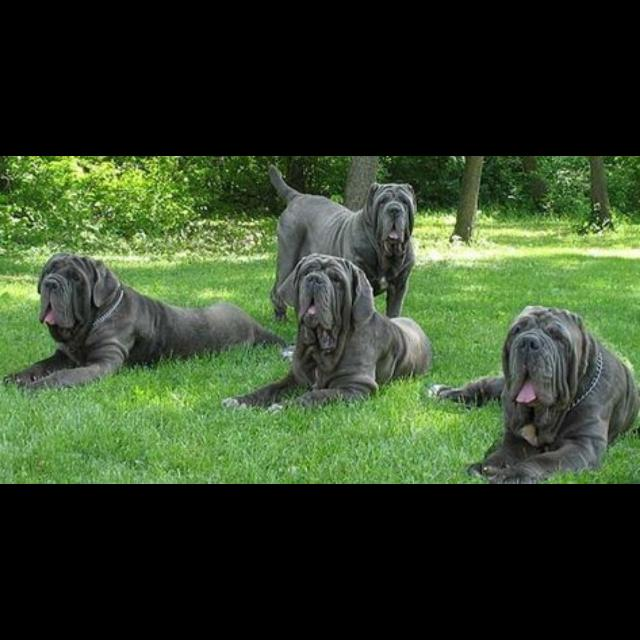mastino_napoletano: (3, 253, 289, 393), (432, 306, 640, 485), (223, 254, 434, 414), (269, 165, 418, 323)
